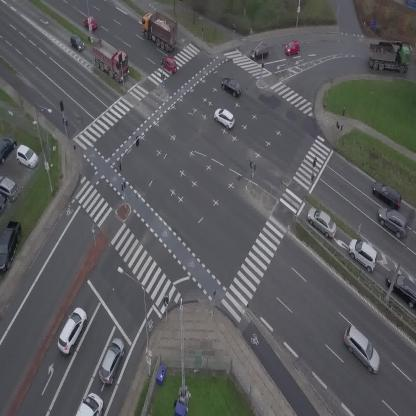car: (336, 323, 389, 375), (52, 304, 91, 355), (95, 336, 129, 387), (343, 235, 384, 274), (302, 203, 343, 241), (372, 202, 412, 239), (369, 178, 406, 211), (210, 104, 238, 131), (219, 75, 245, 98), (65, 32, 87, 54), (158, 53, 180, 75), (81, 14, 100, 33), (249, 45, 269, 60), (285, 41, 300, 56)
lorry: (83, 34, 137, 85), (133, 6, 186, 54), (368, 36, 412, 73), (75, 393, 103, 416)
